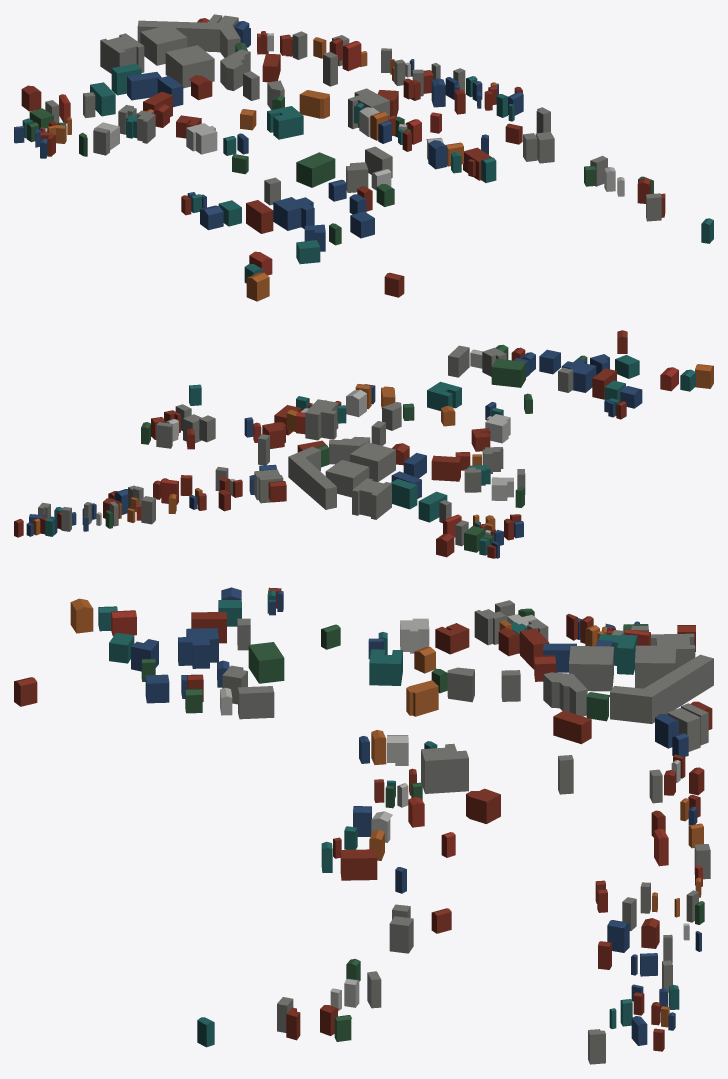
File: near-16-54727-29737.06b8818d.glb
3 views of the same model, one above another, from view 1: azimuth 30°, elevation 25°; view 2: azimuth 150°, elevation 25°; view 3: azimuth 270°, elevation 25° (orthographic). The views are drawn at different scales.
Size of the model in its own units: 596 by 188 by 586.
